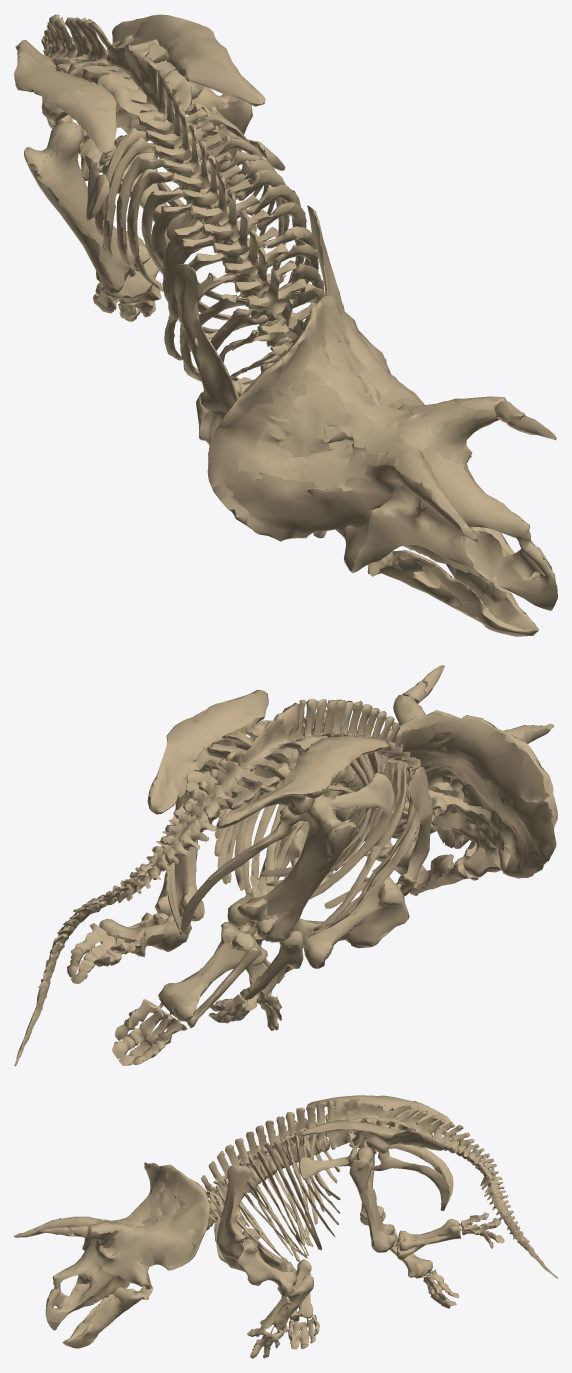
Rendered from FossilStudy.glb.
3 views of the same model, one above another, from view 1: azimuth 30°, elevation 25°; view 2: azimuth 150°, elevation 25°; view 3: azimuth 270°, elevation 25° (orthographic). The views are drawn at different scales.
Visible parts, largest first — view 1: FossilScan1, FossilScan3, FossilScan2, FossilScan4; view 2: FossilScan3, FossilScan2, FossilScan4, FossilScan1; view 3: FossilScan3, FossilScan2, FossilScan1, FossilScan4.
Boxes of the visible parts, x1,y1,x2,y2 form: FossilScan1: (217, 344, 557, 636); FossilScan3: (14, 14, 301, 386); FossilScan2: (153, 134, 422, 538); FossilScan4: (15, 14, 176, 321); FossilScan3: (132, 690, 394, 1023); FossilScan2: (228, 700, 557, 1030); FossilScan4: (14, 759, 276, 1066); FossilScan1: (358, 665, 553, 895); FossilScan3: (283, 1095, 427, 1349); FossilScan2: (145, 1116, 288, 1358); FossilScan1: (14, 1162, 157, 1348); FossilScan4: (416, 1103, 557, 1308).
Bounding box in the file's own units: 10.72 × 18.09 × 38.01.
